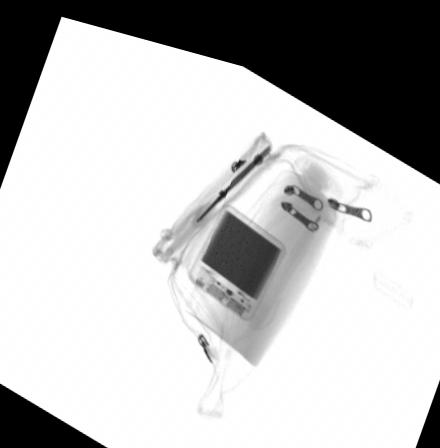Powerbank: (186, 191, 285, 308)
Scissors: (149, 125, 279, 255)
